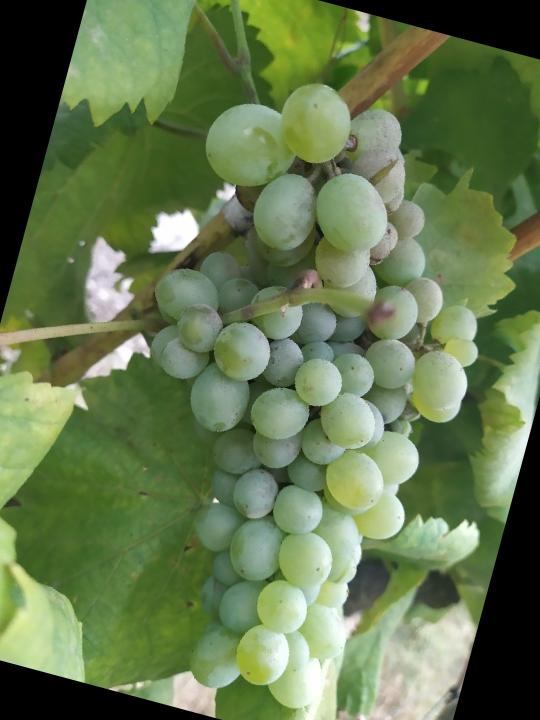grape: (55, 46, 540, 720)
